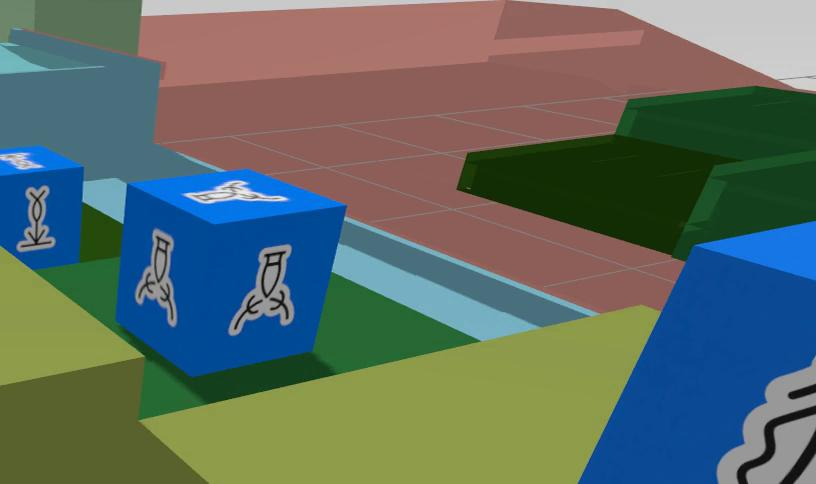KFS_REAL: (577, 222, 815, 484), (116, 169, 346, 376), (717, 360, 815, 484), (0, 145, 83, 267), (229, 246, 292, 334), (135, 229, 176, 326), (15, 188, 55, 252), (184, 180, 288, 203)
